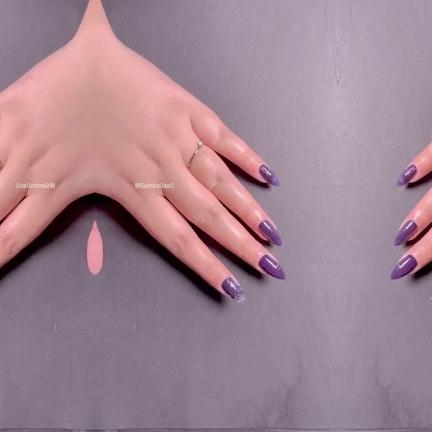Nail: (220, 277, 245, 304), (257, 255, 285, 279), (389, 255, 417, 279), (257, 220, 281, 246), (393, 220, 417, 246), (258, 165, 278, 187), (396, 165, 416, 187), (429, 290, 432, 304)
